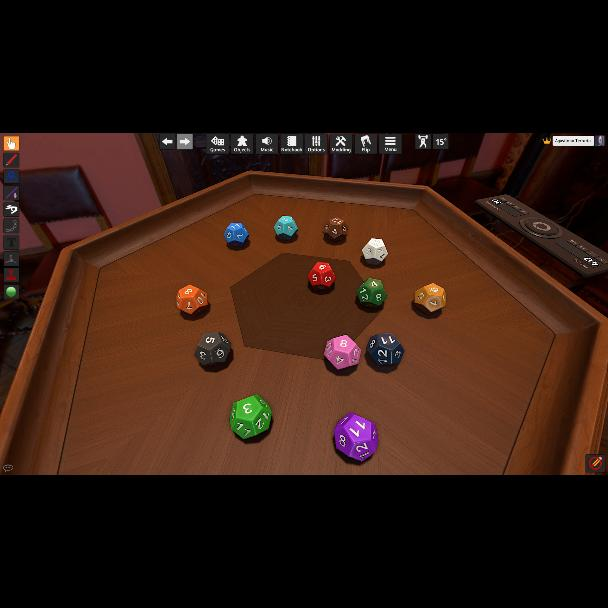d12: (334, 413, 378, 461), (228, 393, 272, 437), (324, 334, 360, 370), (196, 332, 230, 368), (367, 333, 403, 367), (414, 283, 446, 315), (177, 284, 209, 316), (356, 278, 386, 308), (361, 238, 387, 266), (313, 263, 337, 291), (224, 222, 248, 248), (274, 215, 296, 241), (324, 218, 346, 242)
